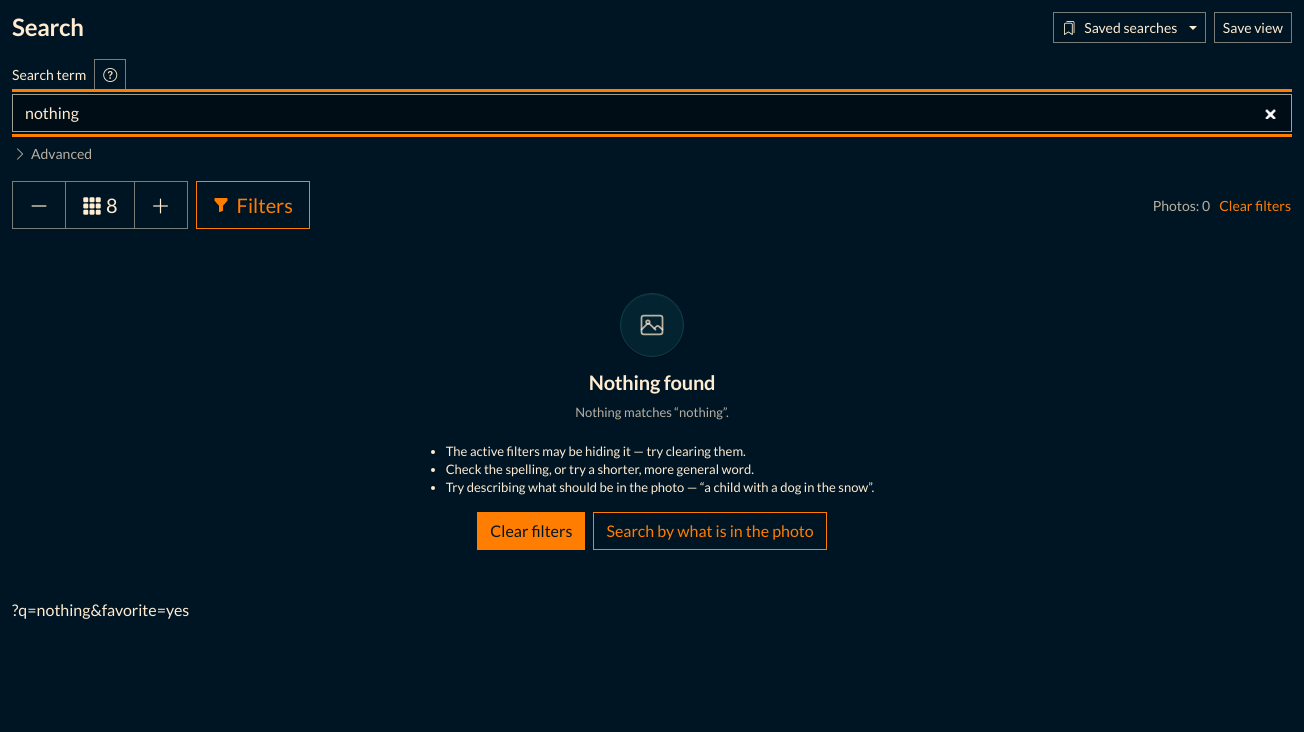
Test case: SearchPage › clears the filters from the empty state, keeping the query that was asked
What coordinates should you click on to do the following:
click the button "Clear filters" below "Nothing matches “nothing”."
I would click on:
 (531, 531)
Its box is [477,512,585,550].
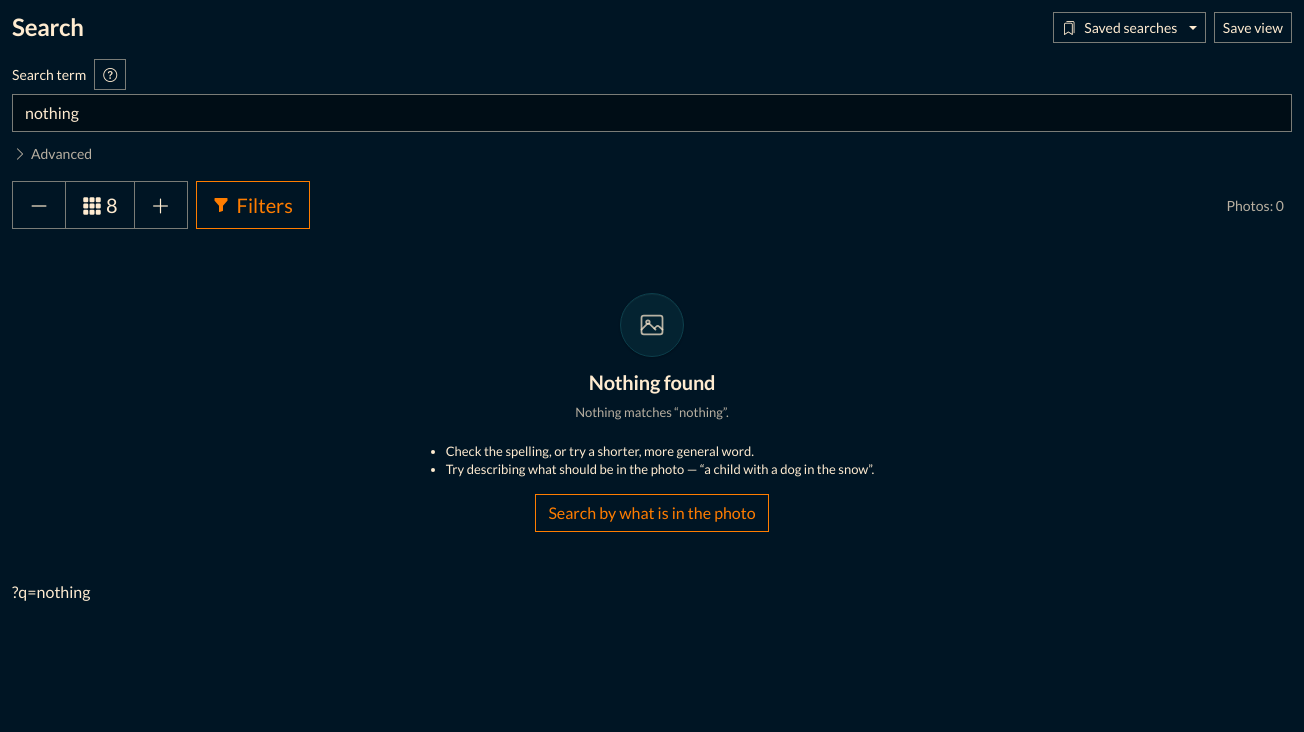
Expected: the text with test id "search" shows "q=nothing", [12,582,90,601]
Expected: the text with test id "search" no longer shows "favorite=yes", [12,582,90,601]
